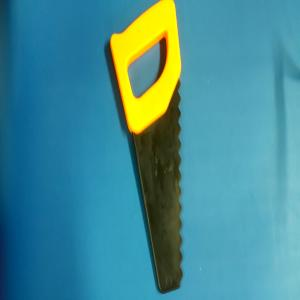serrote: (110, 0, 184, 295)
